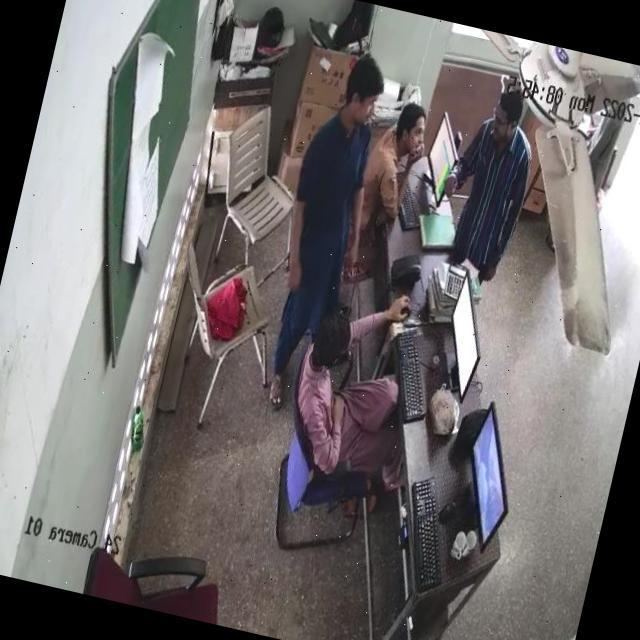person: (271, 60, 383, 377), (286, 316, 406, 476), (446, 96, 542, 266), (340, 86, 435, 250)
